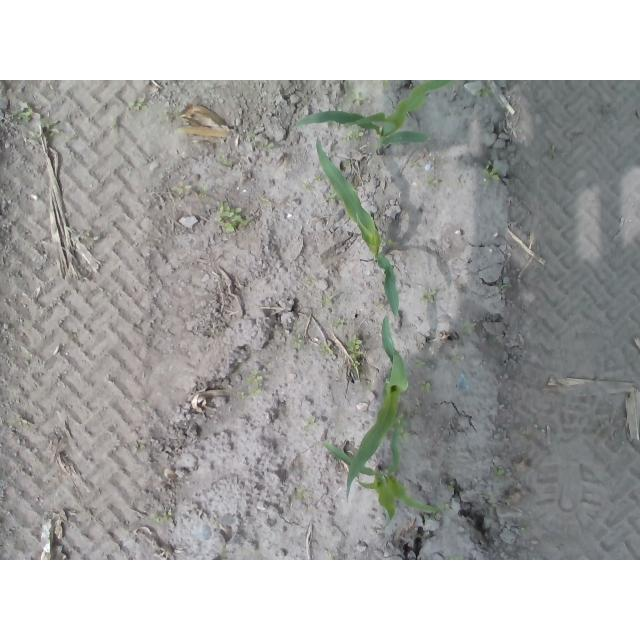Maize: (315, 135, 401, 317), (291, 80, 453, 156), (345, 318, 410, 503), (324, 424, 437, 529)
Weeds: (216, 200, 248, 234), (346, 332, 363, 369), (29, 117, 51, 144), (345, 80, 367, 105), (247, 371, 266, 397), (481, 167, 501, 184), (128, 96, 148, 113), (14, 100, 30, 120), (171, 180, 194, 193), (420, 288, 437, 305), (345, 129, 364, 142), (397, 413, 408, 433), (154, 512, 172, 524), (463, 319, 474, 337), (301, 415, 315, 429), (479, 86, 493, 99), (426, 175, 439, 189), (493, 466, 506, 479), (420, 382, 433, 395), (321, 343, 332, 358), (435, 502, 450, 512), (293, 336, 304, 349), (415, 359, 425, 370), (386, 238, 397, 248), (295, 488, 307, 497), (323, 297, 334, 306), (336, 320, 346, 329), (302, 277, 310, 288), (448, 556, 465, 561), (448, 480, 457, 489), (258, 144, 273, 149), (380, 81, 389, 88)
